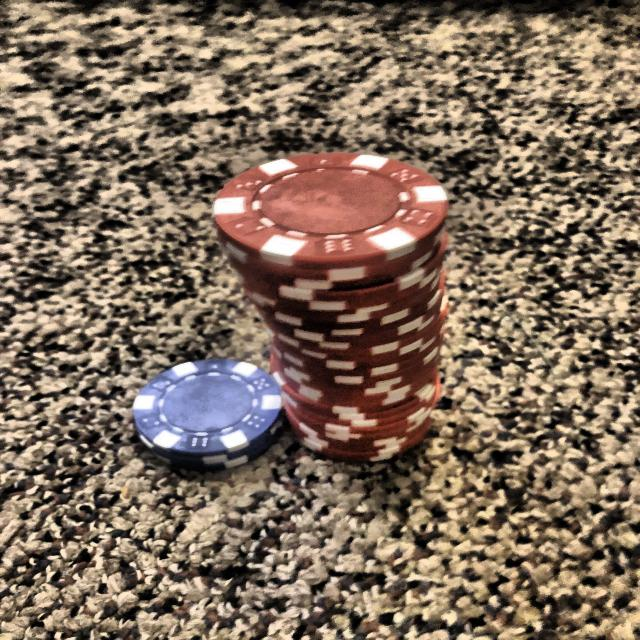Chip: (209, 151, 452, 466), (129, 357, 286, 472)
